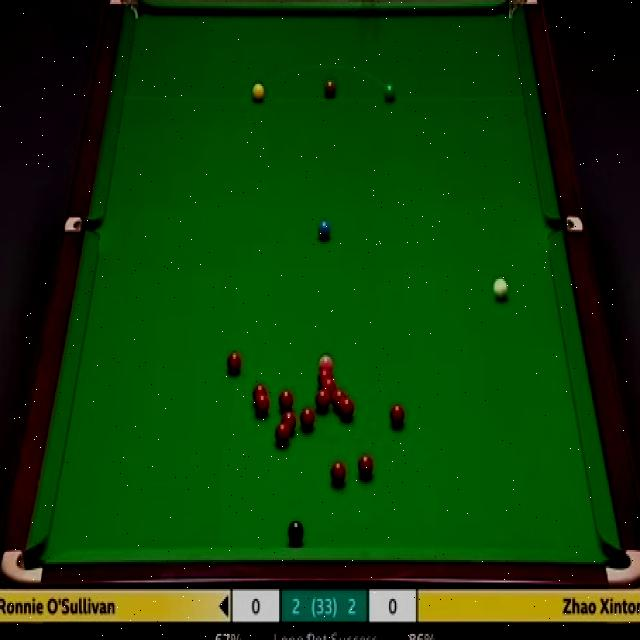black-ball: (286, 517, 304, 542)
blue-ball: (317, 220, 332, 238)
brown-ball: (325, 79, 336, 98)
green-ball: (382, 81, 397, 103)
pink-ball: (318, 355, 334, 370)
red-ball: (356, 452, 374, 480), (225, 351, 242, 375), (389, 404, 406, 428), (274, 422, 290, 447), (254, 392, 269, 417), (278, 390, 295, 412), (252, 383, 268, 406), (331, 462, 346, 486), (300, 408, 316, 429), (282, 411, 297, 433), (332, 390, 346, 412), (315, 389, 330, 408), (340, 398, 353, 419), (321, 378, 336, 394), (318, 369, 331, 385)
white-ball: (493, 276, 508, 300)
yellow-ball: (252, 82, 265, 103)
